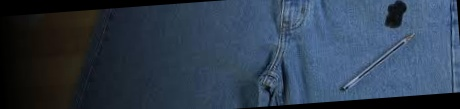ink: (384, 1, 408, 30)
